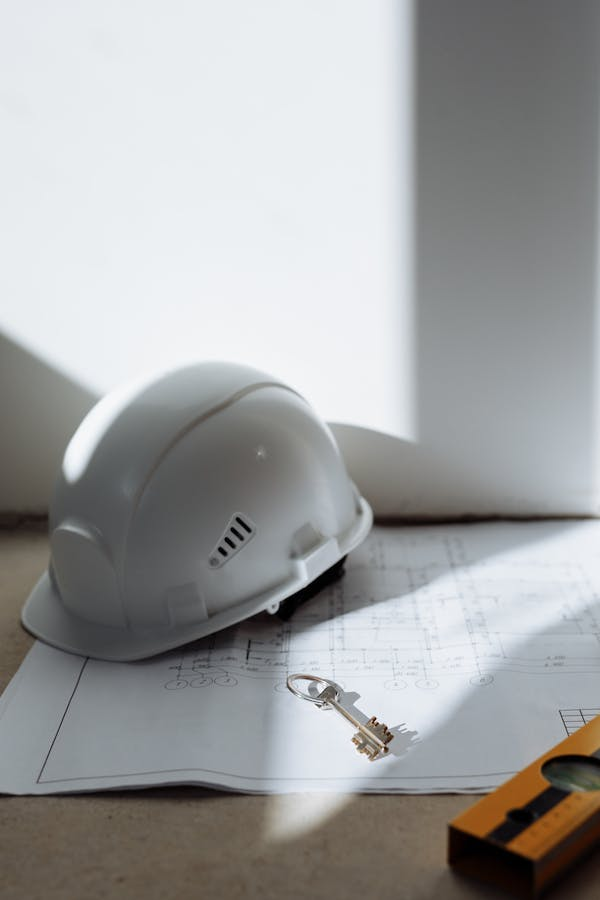key: (310, 684, 396, 764)
